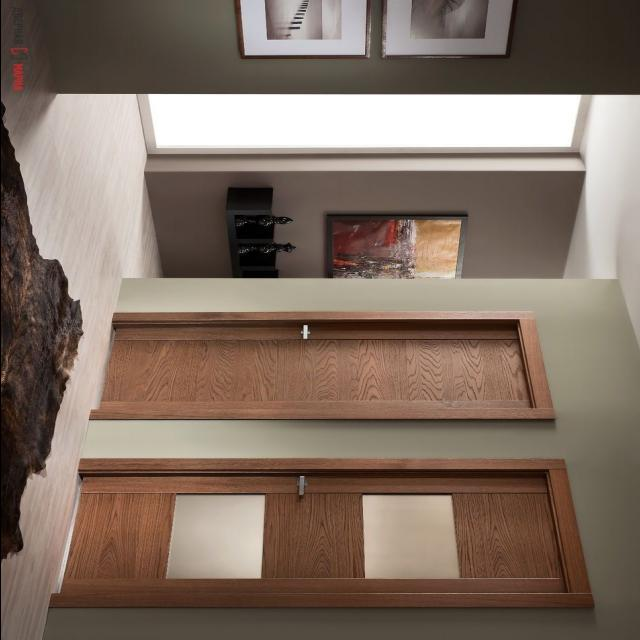close: (64, 460, 548, 610), (102, 312, 530, 422)
